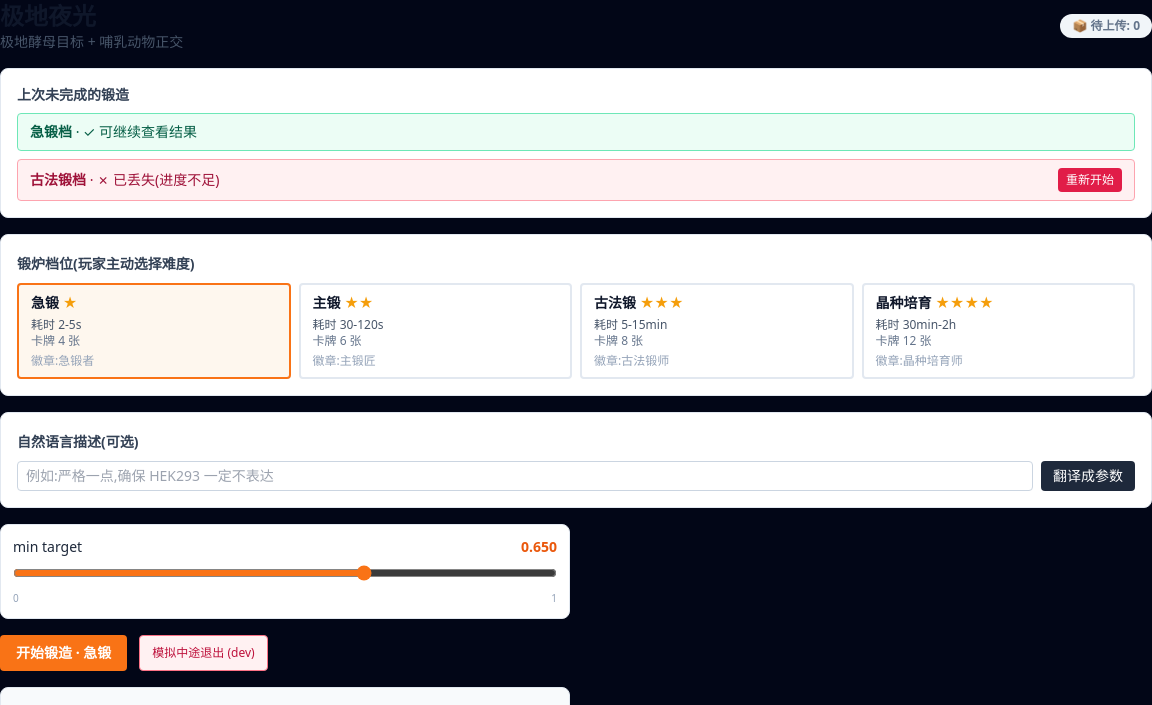
Test case: ForgePage · upload toast (Phase 3 Task 5) › shows info toast when upload.status === "queued"
Check: the element with test id "ritual-selector" is shown, box [0,234,1151,396]
Click the button with test id "forge-run" at (64, 653), box [0,635,127,671]
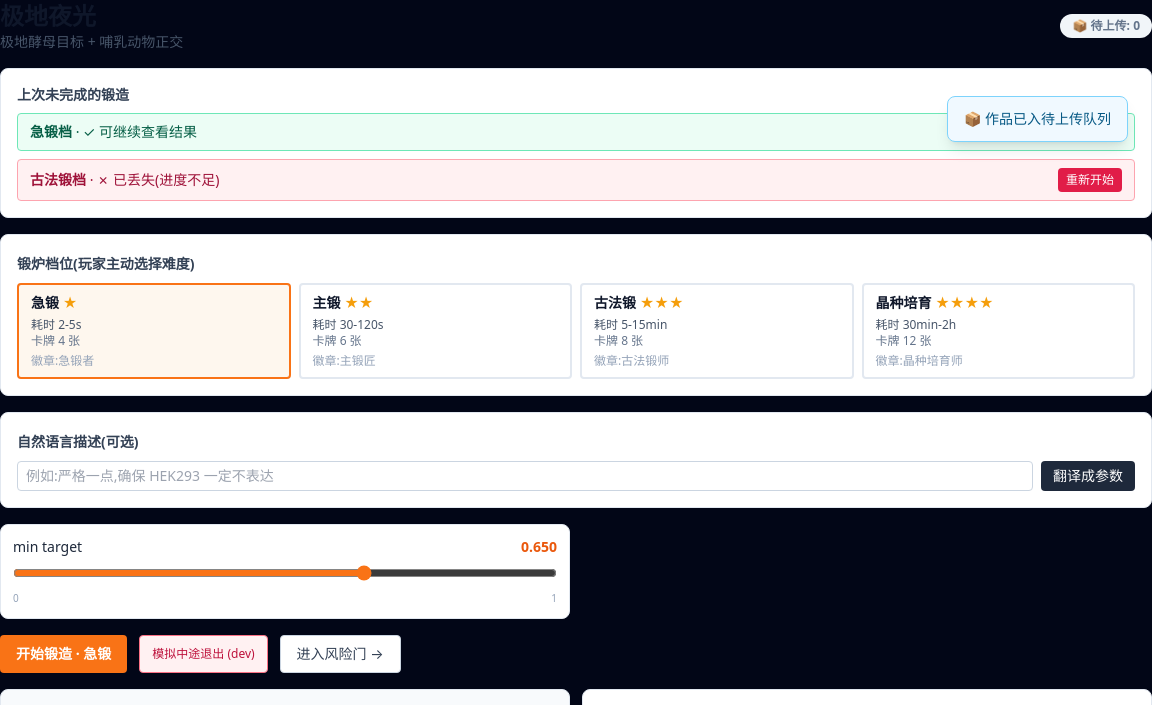
Check: the message with test id "upload-toast" shows "已入", box [947,96,1128,142]
